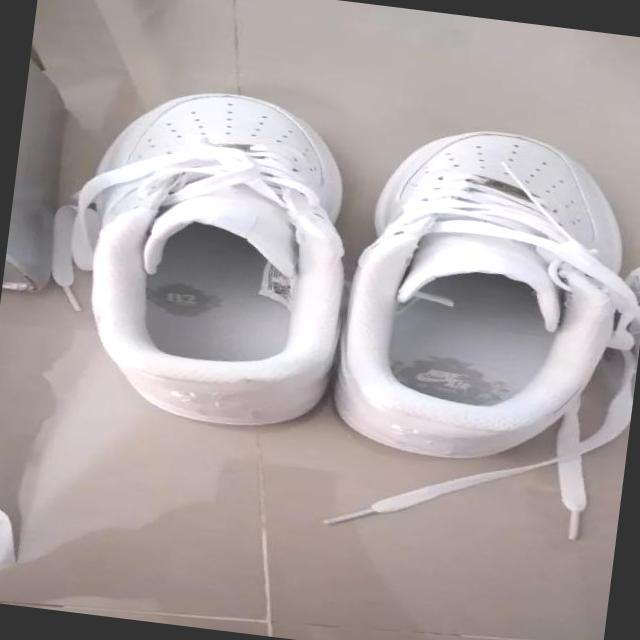nike_fake_airforce: (24, 68, 390, 444), (326, 111, 640, 480)
